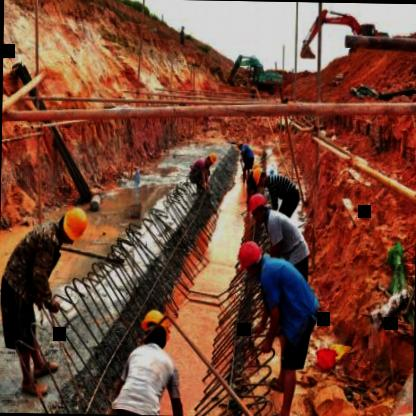helmet: (138, 306, 172, 355), (235, 240, 263, 278), (58, 206, 90, 239), (246, 191, 268, 223), (251, 167, 268, 188), (202, 152, 217, 170)
